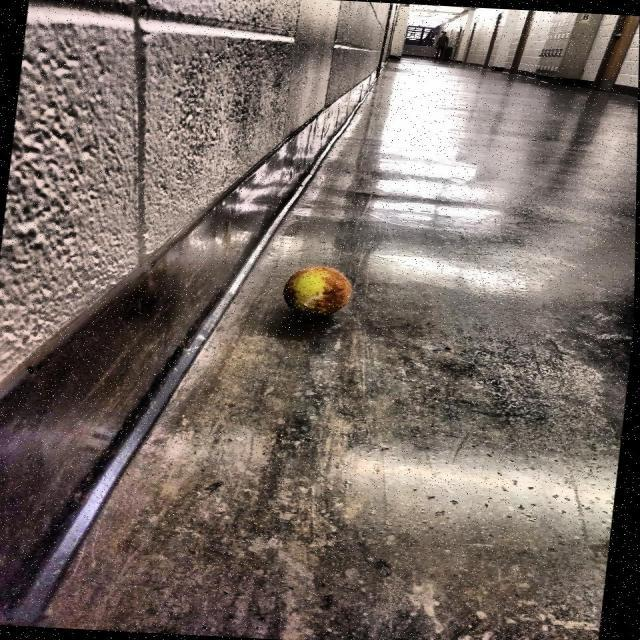tennis-ball: (280, 260, 358, 322)
